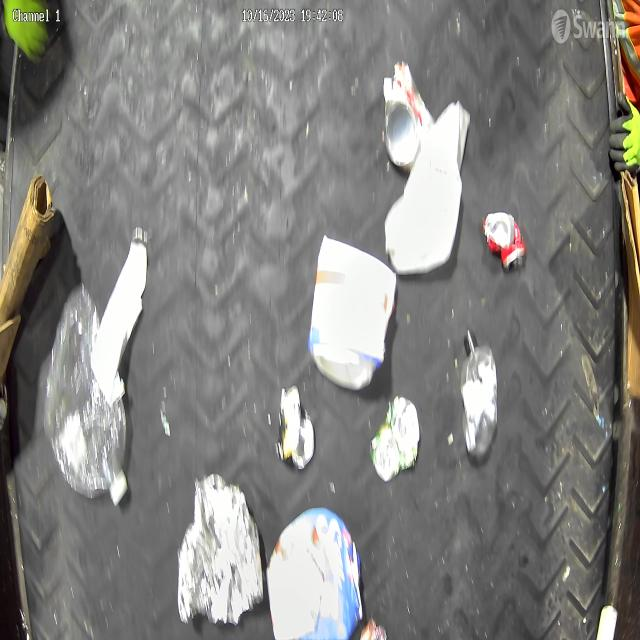can: (369, 394, 422, 481), (275, 386, 317, 472), (483, 212, 528, 272), (384, 95, 418, 169)
milk_jug: (383, 98, 472, 276)
non_white_jug: (265, 503, 366, 640)
plastic_bottle: (45, 285, 129, 506)
